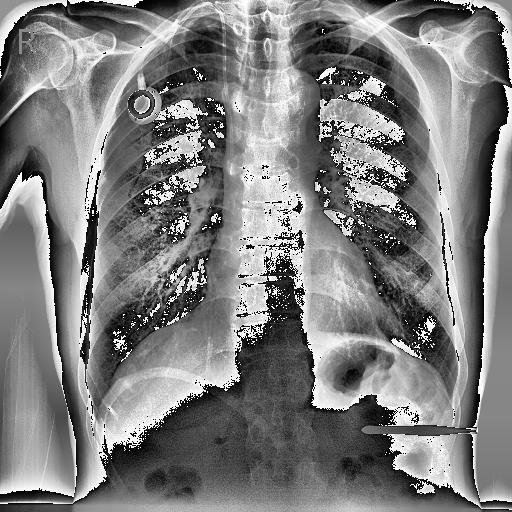11- Pleural thickening: (317, 10, 393, 46), (174, 10, 231, 34), (158, 12, 221, 30), (296, 8, 356, 22), (317, 12, 360, 25), (177, 16, 218, 28)
